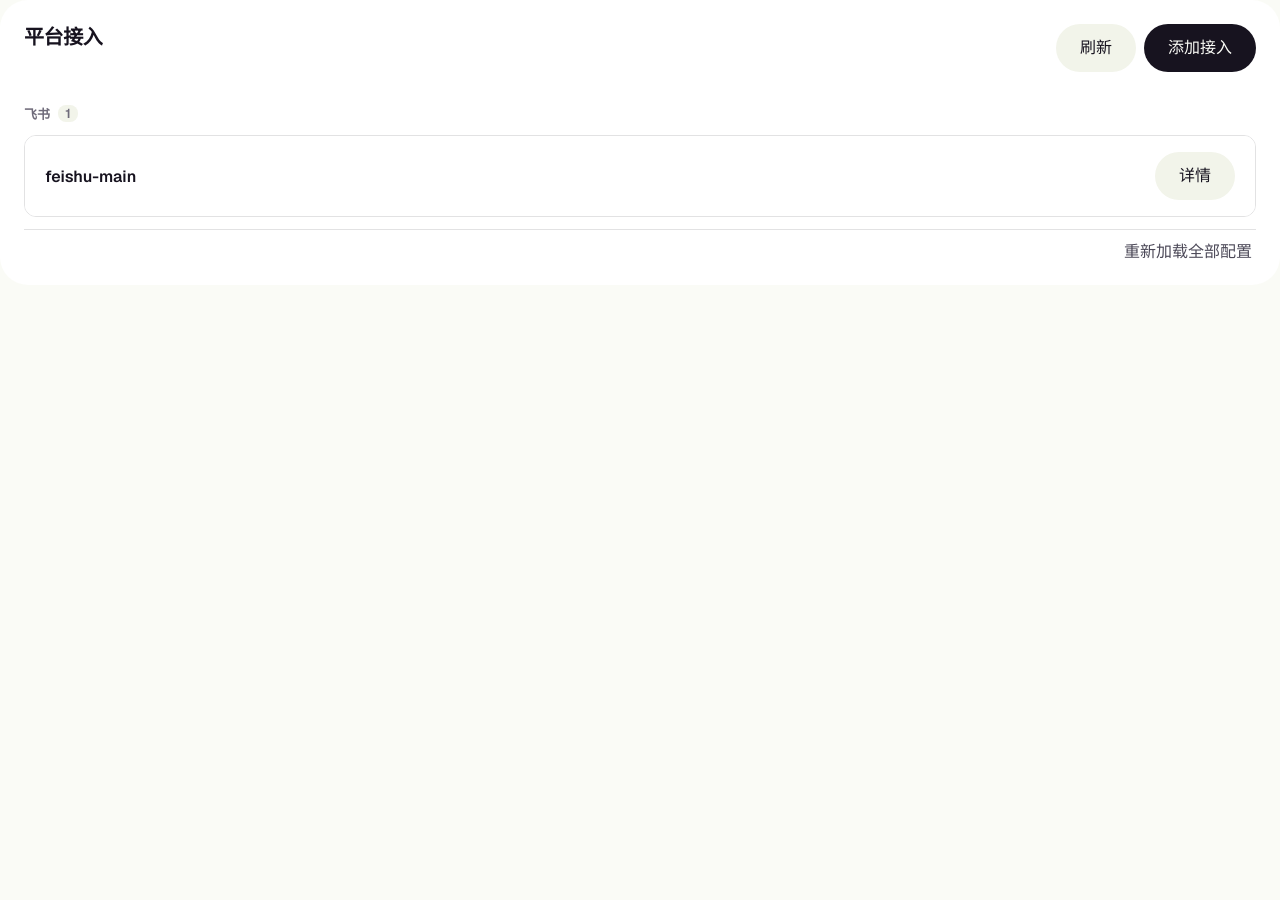
it: platform integrations: absent ports are not rendered › starts in the existing-app mode when only registration has a port
This screenshot has width=1280, height=900.
Check: the list named "平台接入列表" is shown, box x1=24 y1=88 x2=1256 y2=217
Click the button "添加接入".
click(1200, 48)  # box x1=1144 y1=24 x2=1256 y2=72
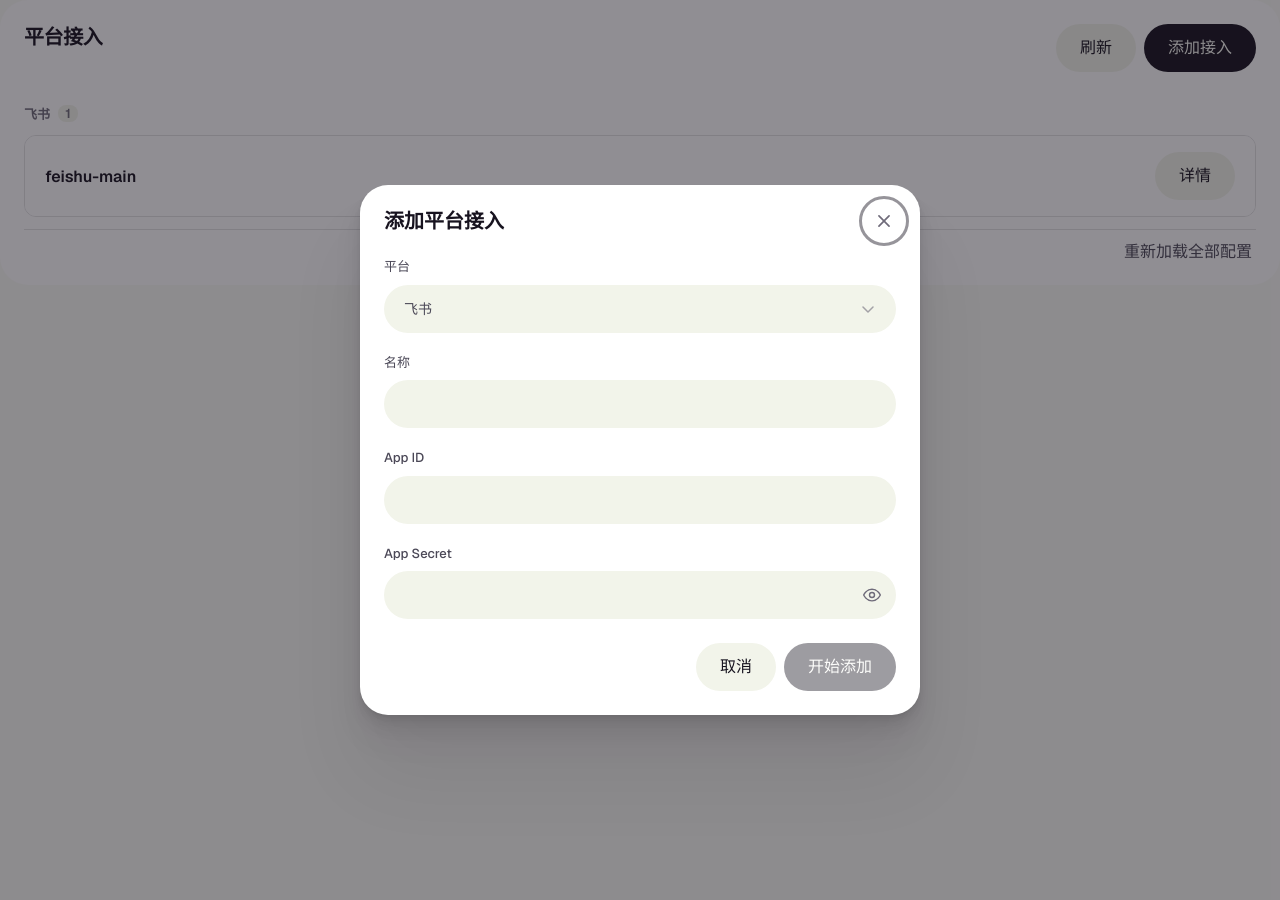
Check: the password field labelled "App Secret" is shown, box x1=384 y1=571 x2=896 y2=619
